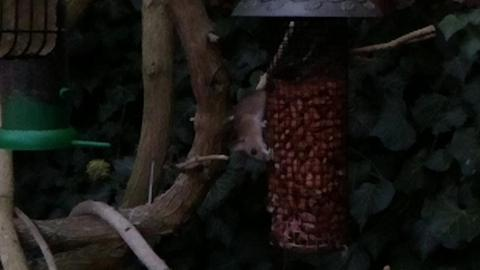mouse: (230, 88, 270, 162)
